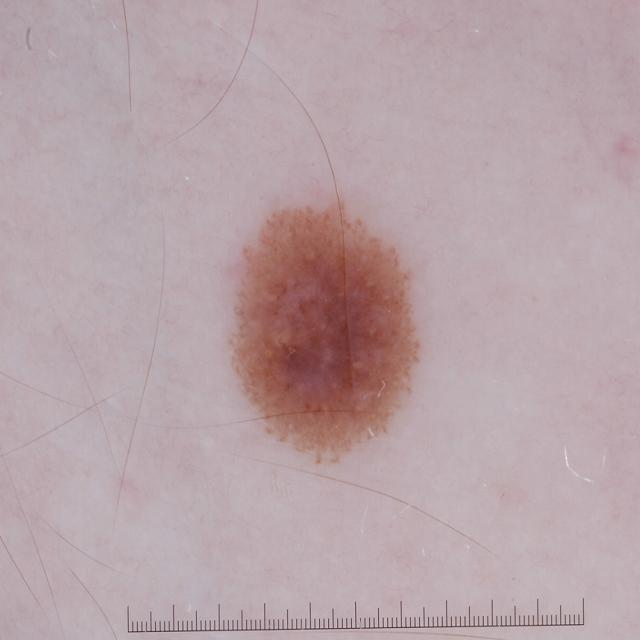Benign: (225, 186, 430, 475)
